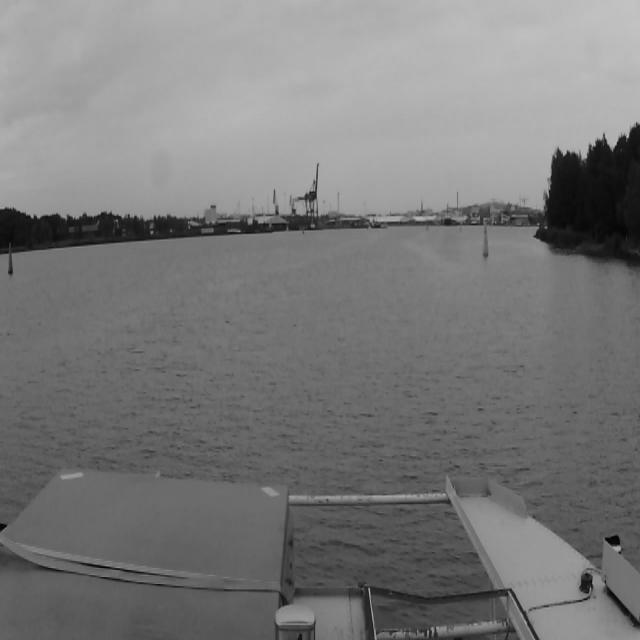buoy: (7, 243, 13, 274), (484, 226, 488, 256)
ship: (444, 203, 452, 226)
